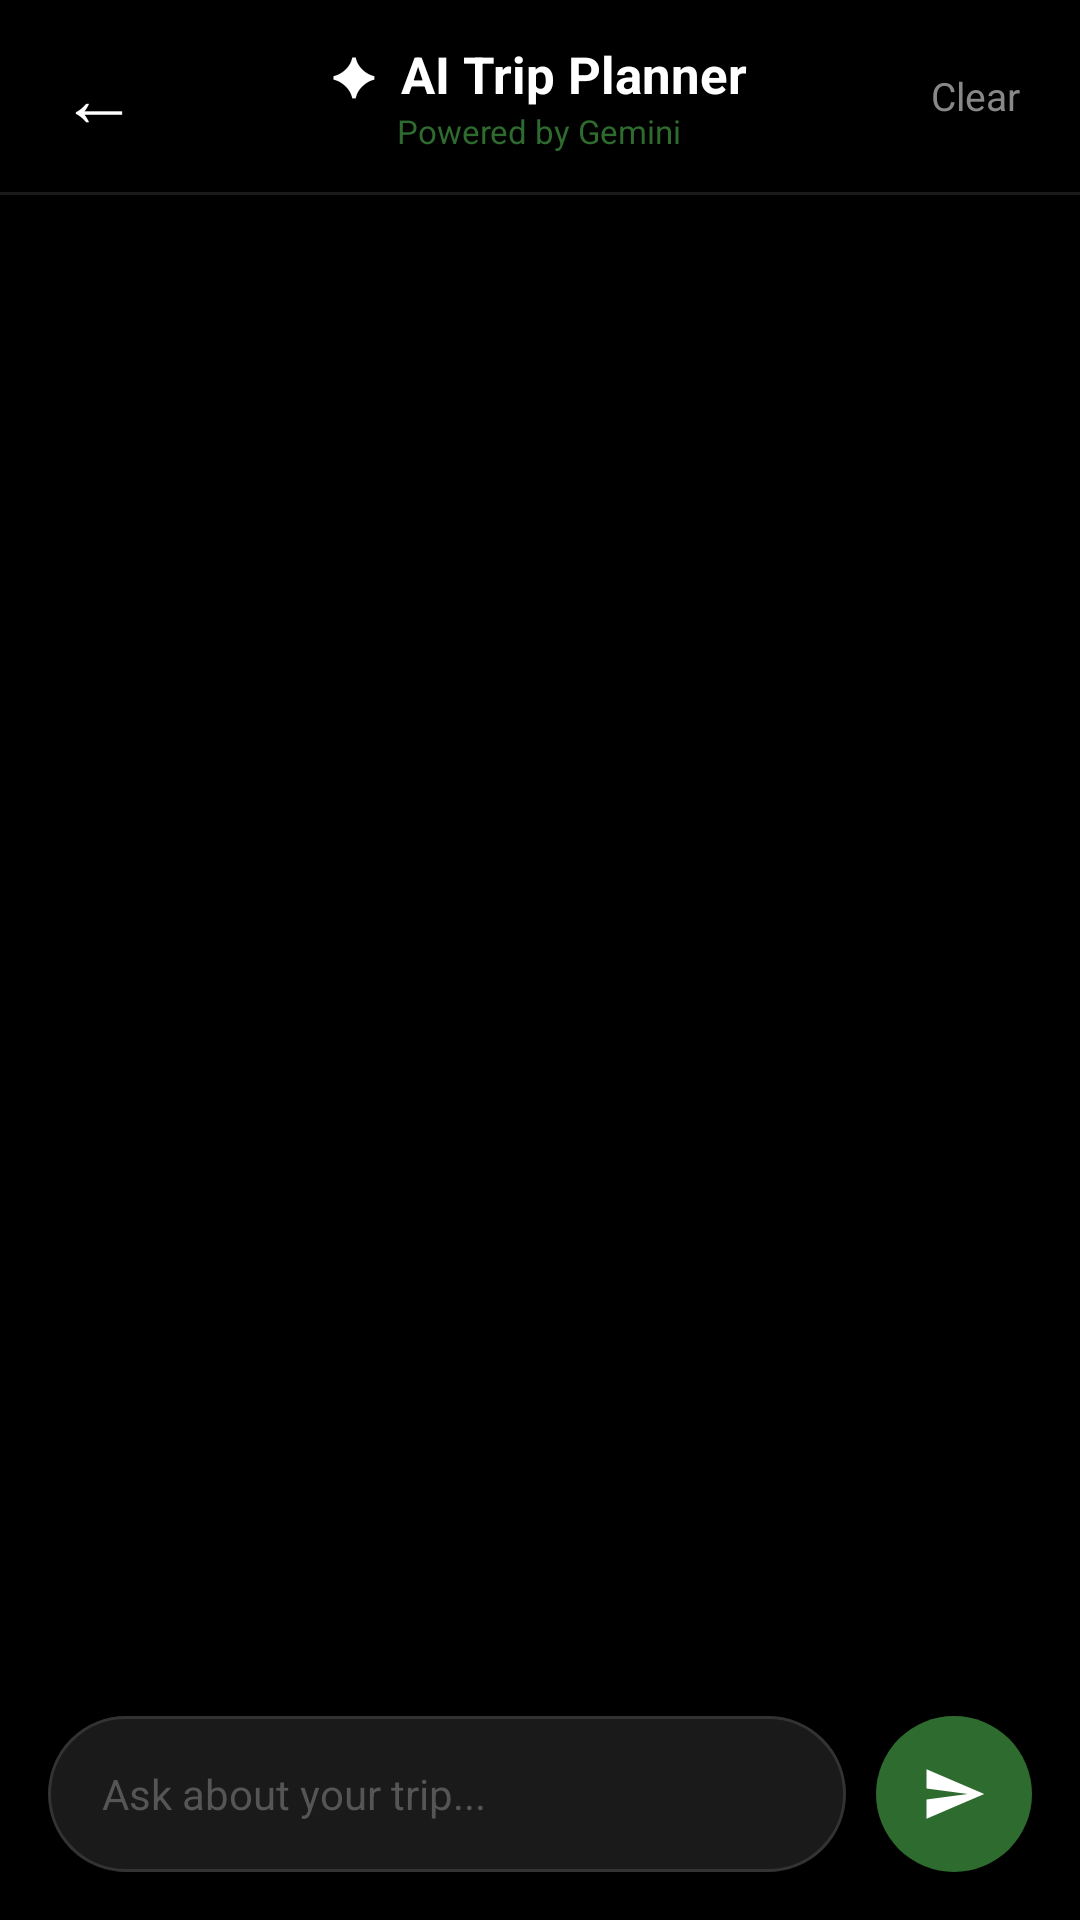

Where icons sit on this 1080*1920 app screen, as detection(x1, y1, x2, y2):
send: detection(926, 1769, 984, 1819)
